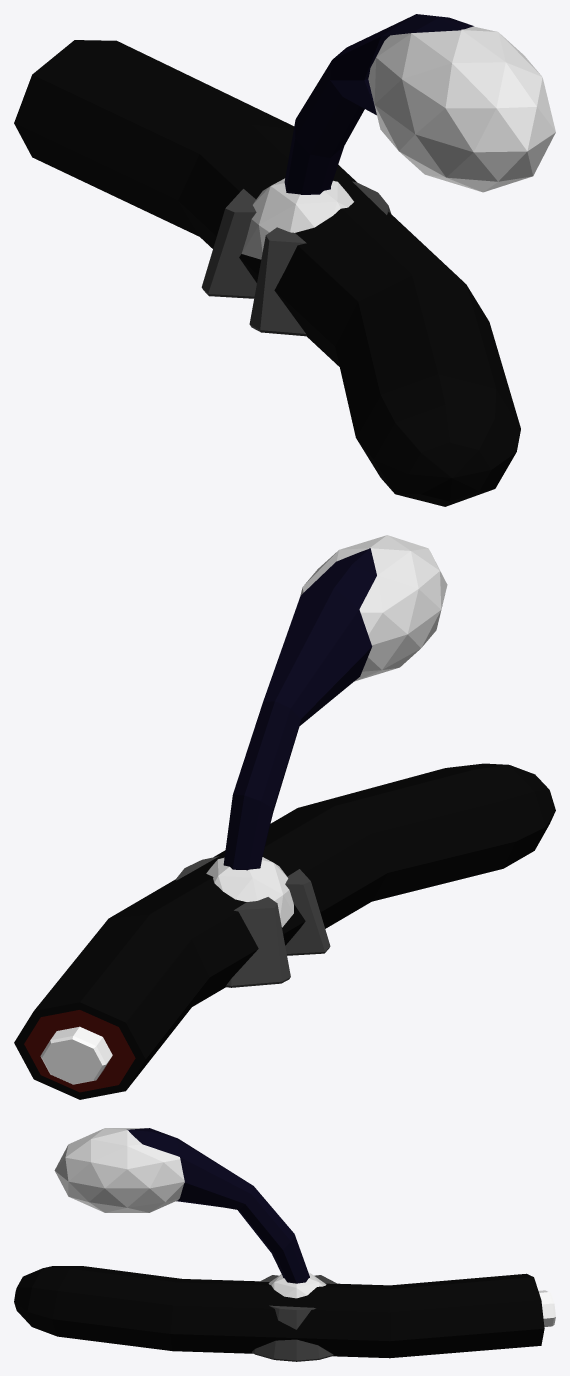
Rendered from HorseHoof.fbx.
The picture shows the model from 3 angles, top to bottom: view 1: azimuth 30°, elevation 25°; view 2: azimuth 150°, elevation 25°; view 3: azimuth 270°, elevation 25°; orthographic projection. The views are drawn at different scales.
Visible parts, largest first — view 1: Black cat Tail, Light, Angler Thing, Cylinder, Sun Powder; view 2: Black cat Tail, Angler Thing, Light, Cylinder, Sun Powder; view 3: Black cat Tail, Light, Angler Thing, Cylinder, Sun Powder.
Boxes of the visible parts, x1,y1,x2,y2 form: Black cat Tail: (14,40,520,506); Light: (368,26,555,192); Angler Thing: (284,14,473,194); Cylinder: (201,181,391,336); Sun Powder: (241,178,353,259); Black cat Tail: (14,763,555,1099); Angler Thing: (223,548,376,870); Light: (300,535,447,681); Cylinder: (176,856,330,987); Sun Powder: (206,857,293,927); Black cat Tail: (14,1266,555,1358); Light: (54,1128,184,1212); Angler Thing: (127,1128,309,1283); Cylinder: (252,1275,337,1361); Sun Powder: (268,1273,326,1298).
Bounding box in the file's own units: 354 × 551 × 1207.
